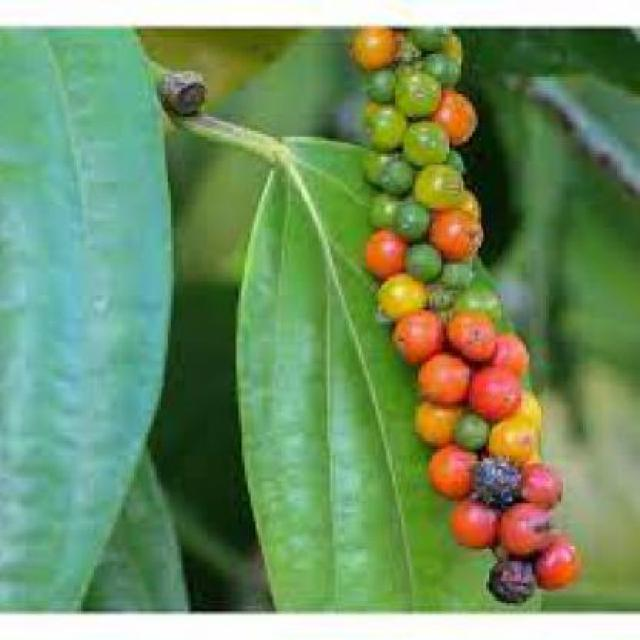RIPE: (331, 37, 580, 620)
